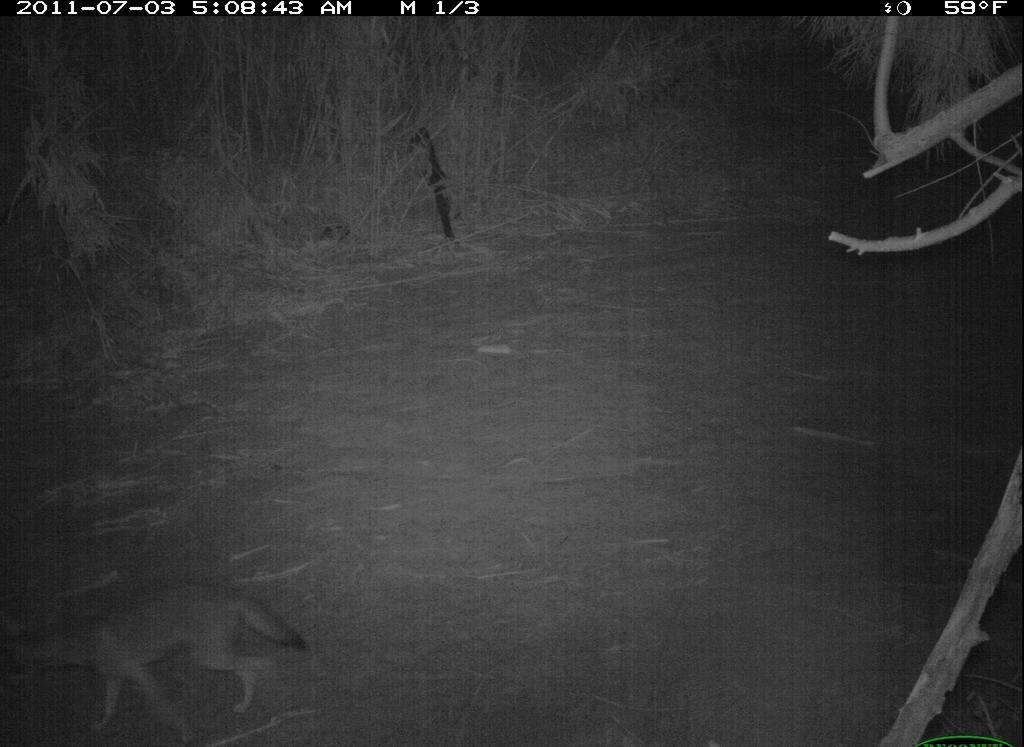coyote: (11, 578, 313, 747)
